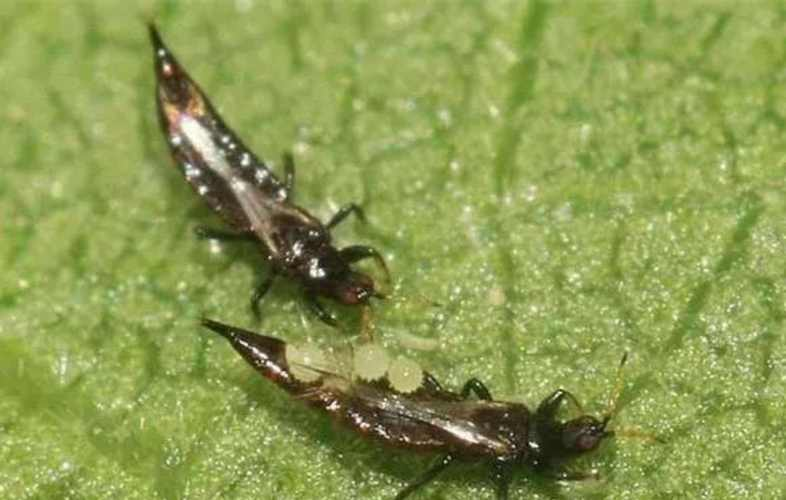Phlaeothripidae: (197, 315, 671, 500), (145, 18, 394, 328)
